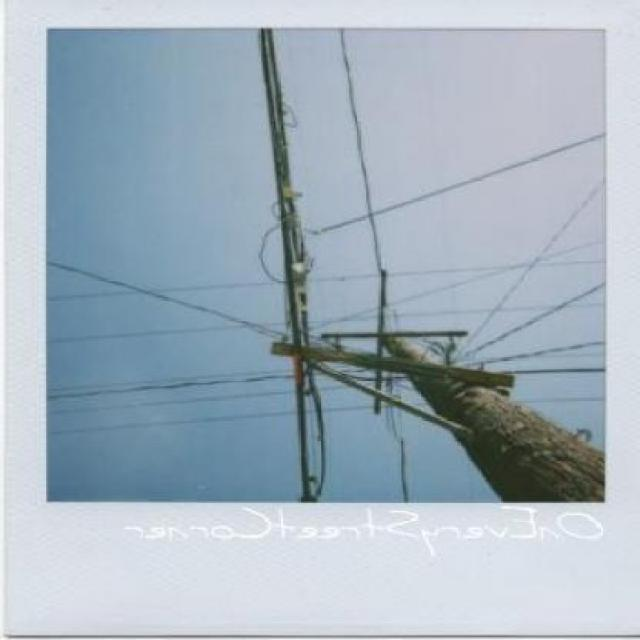pole: (229, 278, 605, 528)
